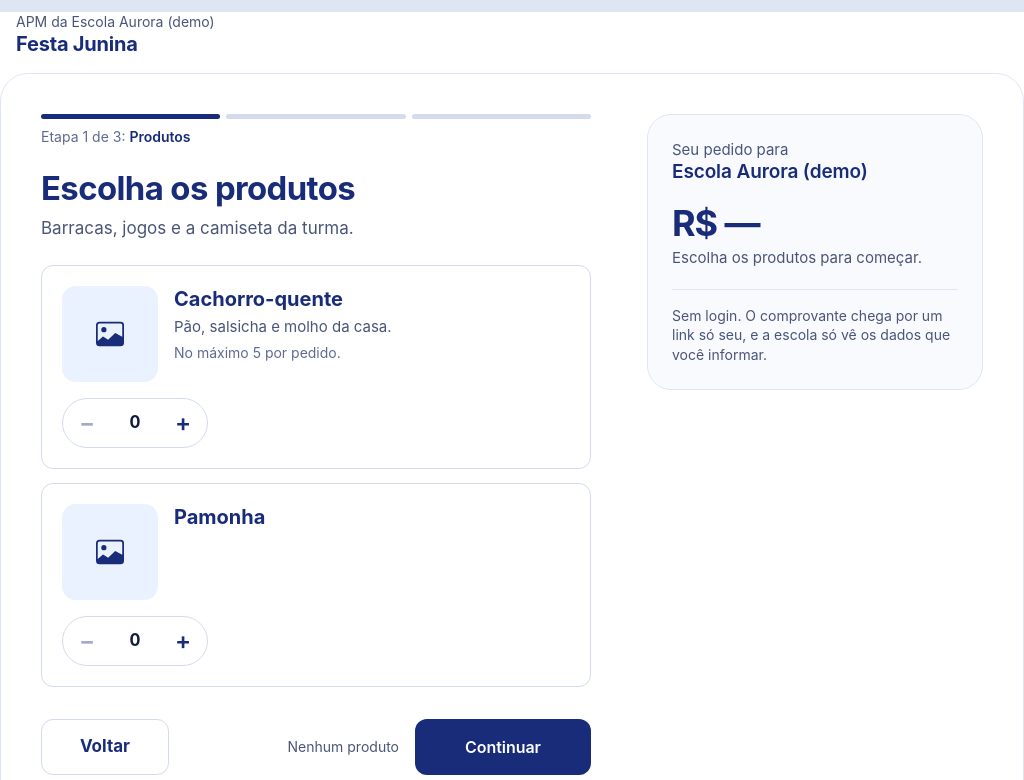
Test: o carrinho › o limite por pedido trava o + no valor do produto
The width and height of the screenshot is (1024, 780).
Click the button named "Adicionar um Cachorro-quente".
click(183, 423)  # box [159, 399, 207, 447]
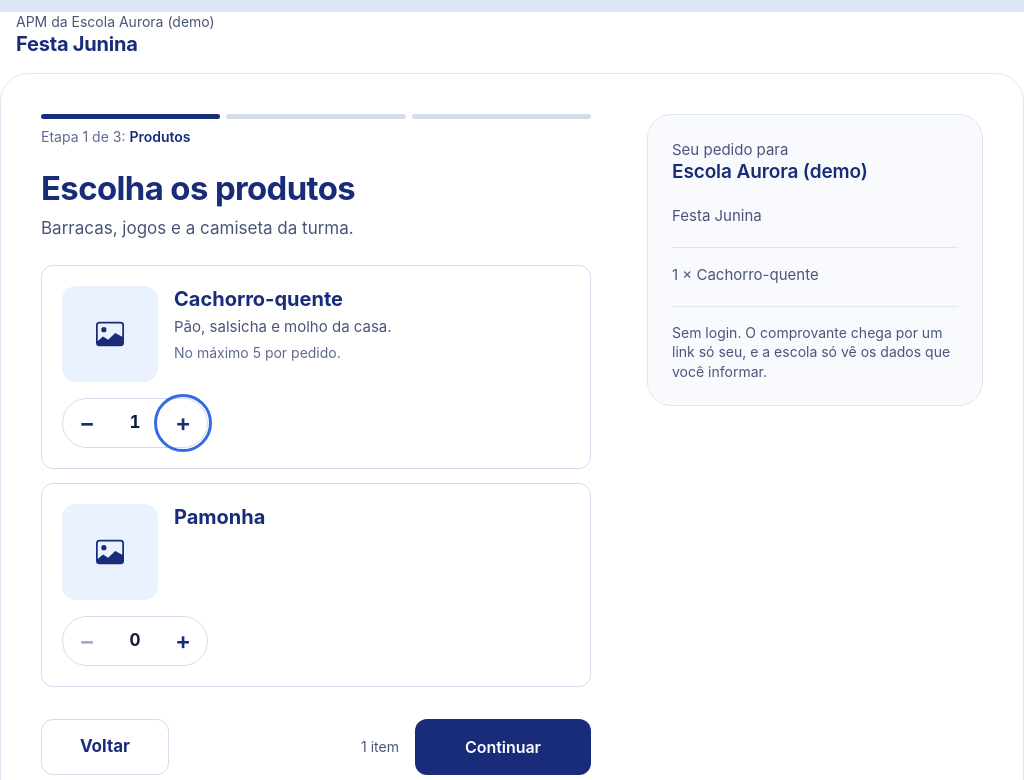
Click the button named "Adicionar um Cachorro-quente".
click(183, 423)  # box [159, 399, 207, 447]
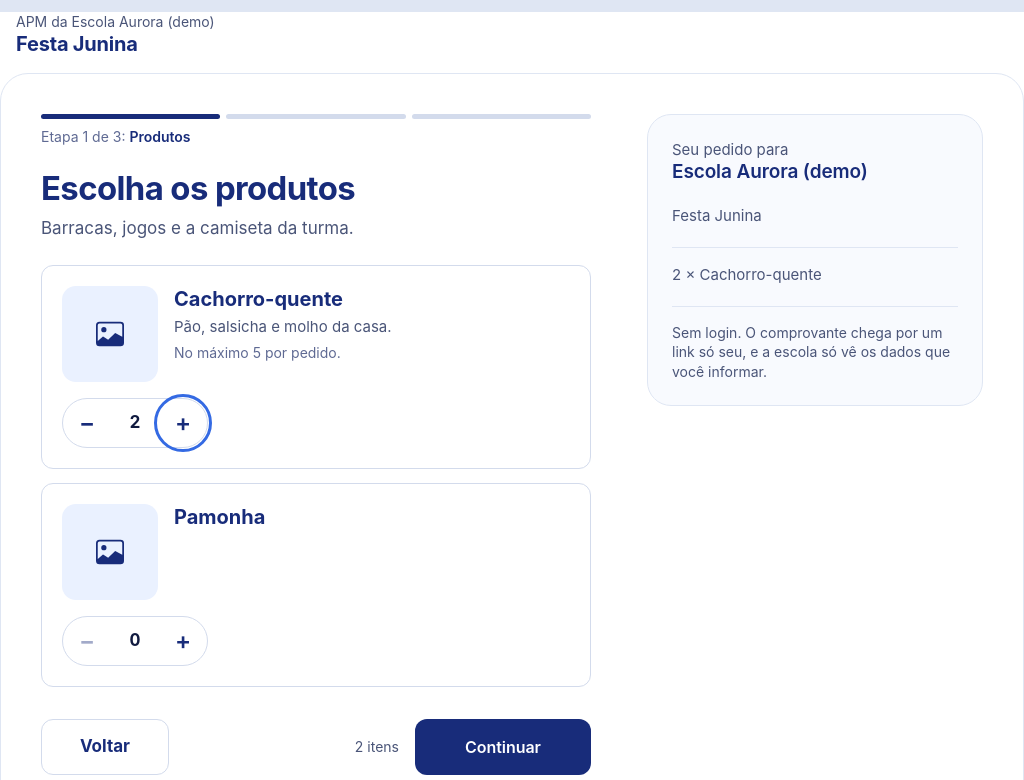
Click the button named "Adicionar um Cachorro-quente".
click(183, 423)  # box [159, 399, 207, 447]
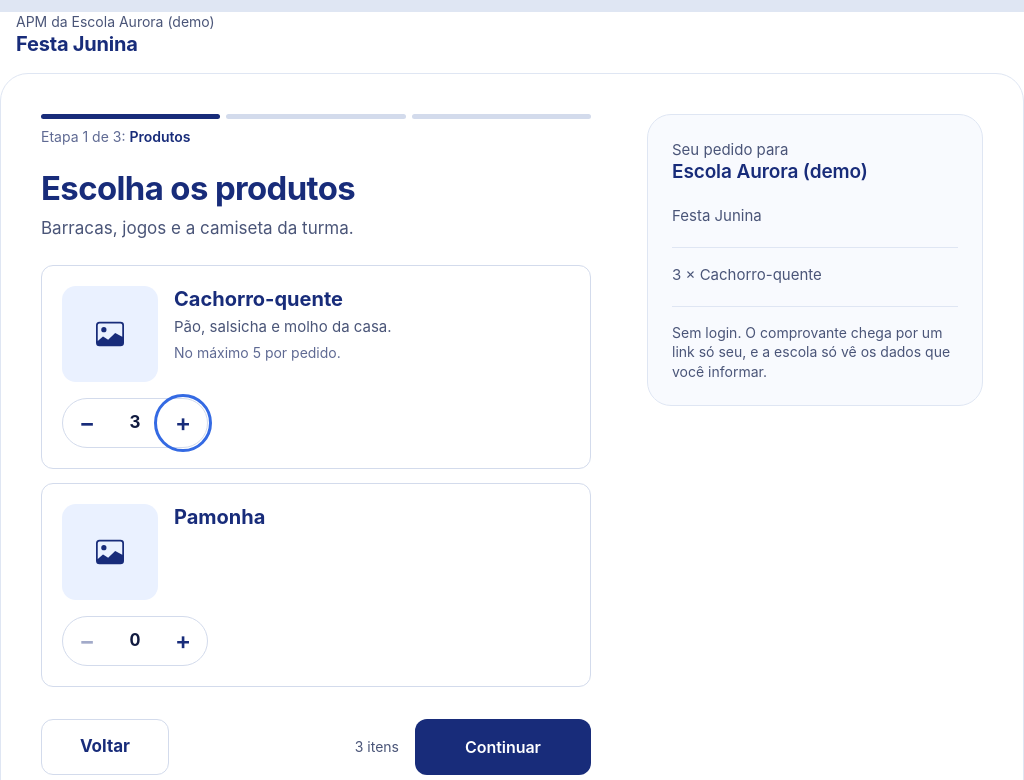
Click the button named "Adicionar um Cachorro-quente".
click(183, 423)  # box [159, 399, 207, 447]
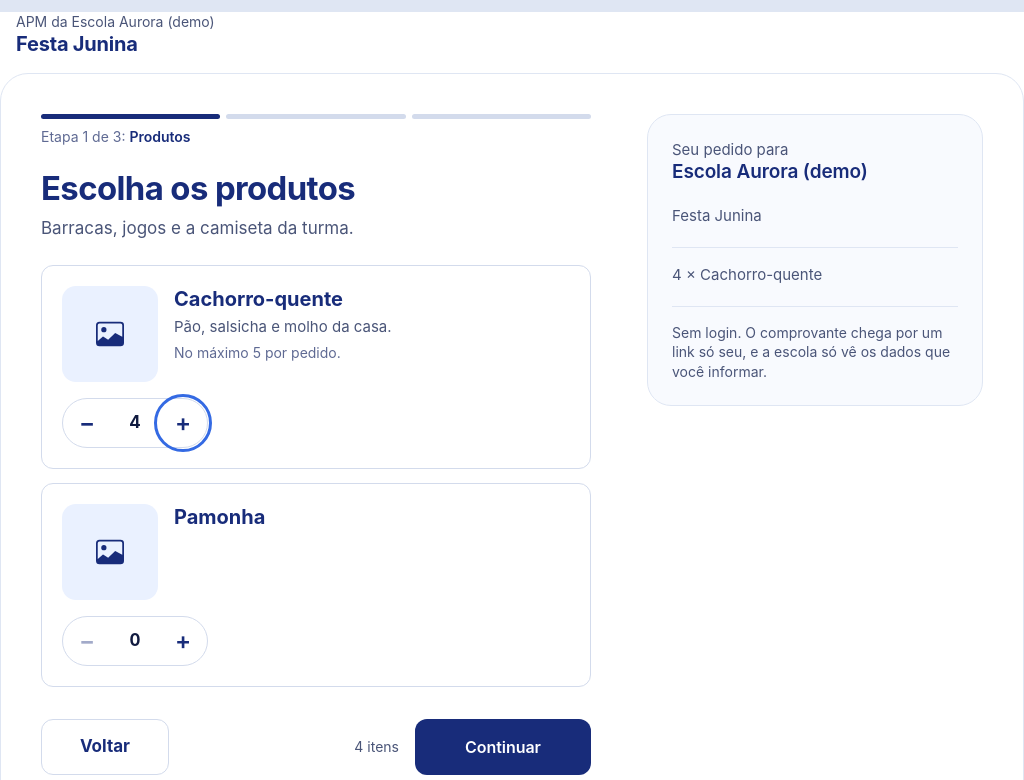
Click the button named "Adicionar um Cachorro-quente".
click(183, 423)  # box [159, 399, 207, 447]
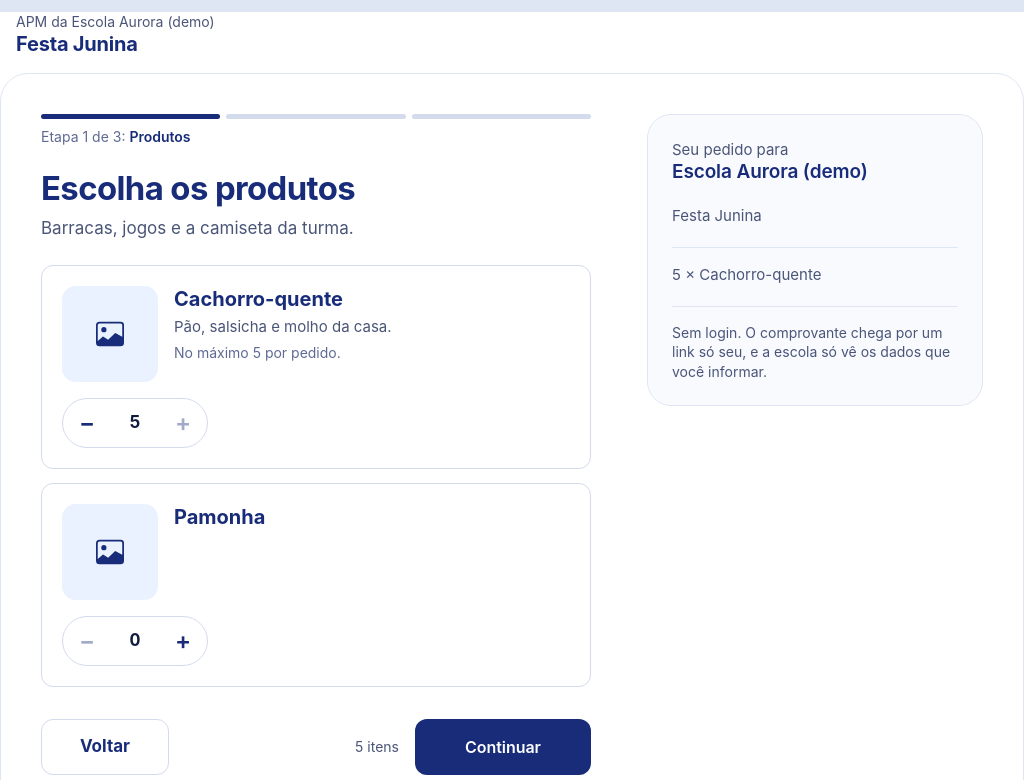
Expected: the button named "Adicionar um Pamonha" is enabled, [159, 617, 207, 665]
Result: the text "5" is shown at [115, 410, 155, 436]
Result: the button named "Adicionar um Cachorro-quente" is disabled at [159, 399, 207, 447]
